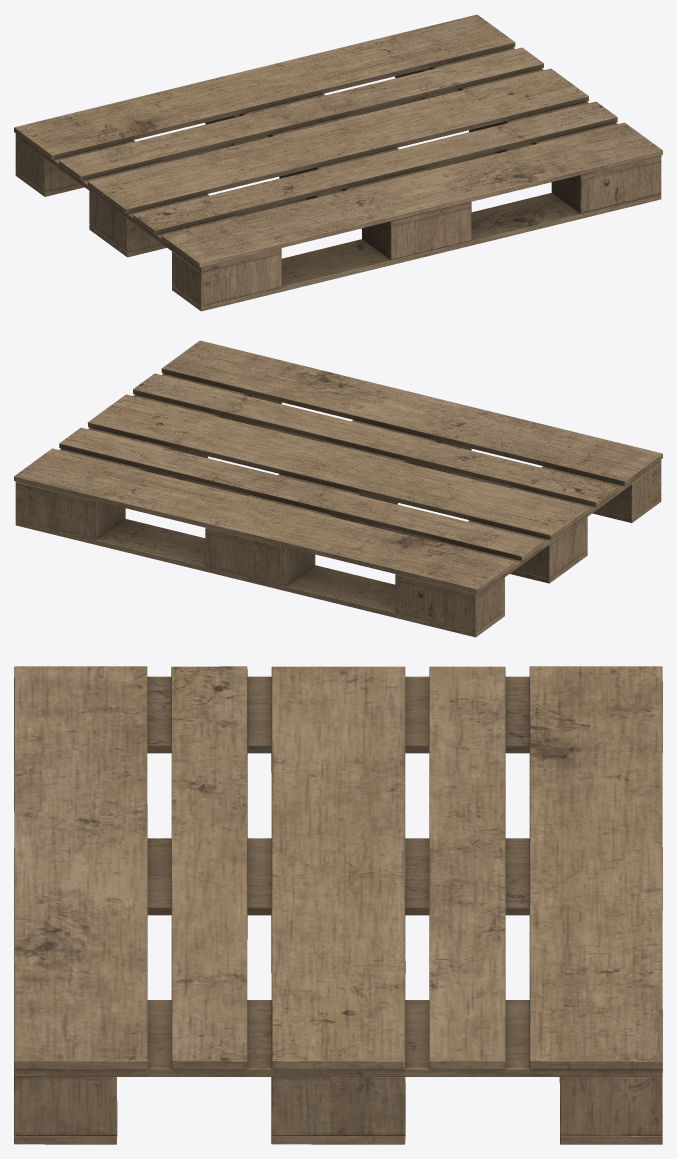
File: EuroPallet.fbx
3 views of the same model, one above another, from view 1: azimuth 30°, elevation 25°; view 2: azimuth 150°, elevation 25°; view 3: azimuth 270°, elevation 25° (orthographic). The views are drawn at different scales.
Visible parts, largest first — view 1: Pallet; view 2: Pallet; view 3: Pallet.
Part boxes in pixels (bbox=[...]): Pallet: bbox=[14, 14, 662, 311]; Pallet: bbox=[14, 340, 662, 637]; Pallet: bbox=[14, 666, 662, 1144].
Size of the model in its own units: 111 by 11.23 by 77.14.
Materials: 1 (1 with a texture image).
